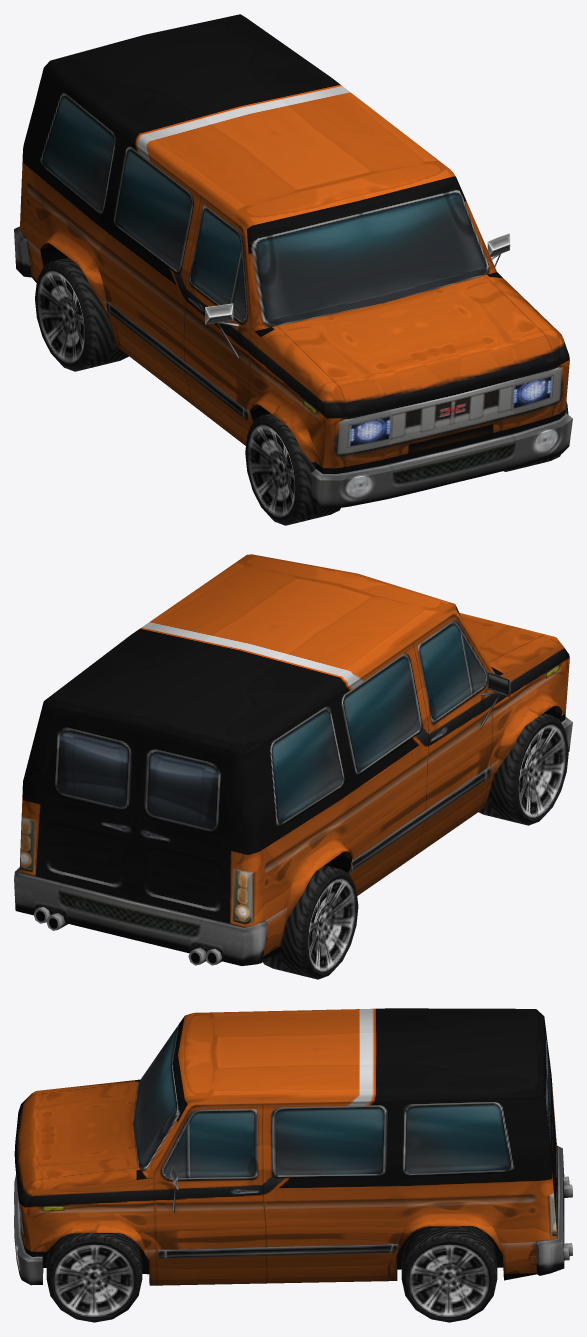
3 views of the same model, one above another, from view 1: azimuth 30°, elevation 25°; view 2: azimuth 150°, elevation 25°; view 3: azimuth 270°, elevation 25° (orthographic). The views are drawn at different scales.
Visible parts, largest first — view 1: player_chassis, veh_wheel_b, veh_wheel_fr; view 2: player_chassis, veh_wheel_b, veh_wheel_fr; view 3: player_chassis, veh_wheel_b, veh_wheel_fl.
Boxes of the visible parts, x1=… form: player_chassis: x1=14, y1=14, x2=572, y2=508; veh_wheel_b: x1=35, y1=257, x2=128, y2=371; veh_wheel_fr: x1=245, y1=413, x2=340, y2=525; player_chassis: x1=14, y1=554, x2=572, y2=965; veh_wheel_b: x1=262, y1=865, x2=358, y2=979; veh_wheel_fr: x1=478, y1=713, x2=568, y2=825; player_chassis: x1=14, y1=1008, x2=572, y2=1285; veh_wheel_b: x1=401, y1=1226, x2=497, y2=1322; veh_wheel_fl: x1=46, y1=1233, x2=142, y2=1322.
Bounding box in the file's own units: 228 × 188 × 428.
